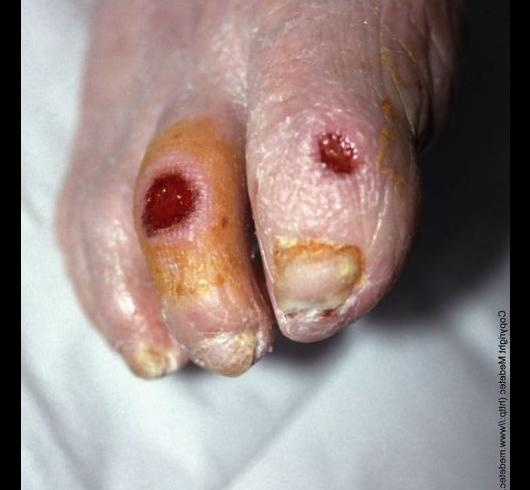NonPU: (123, 94, 393, 356)
